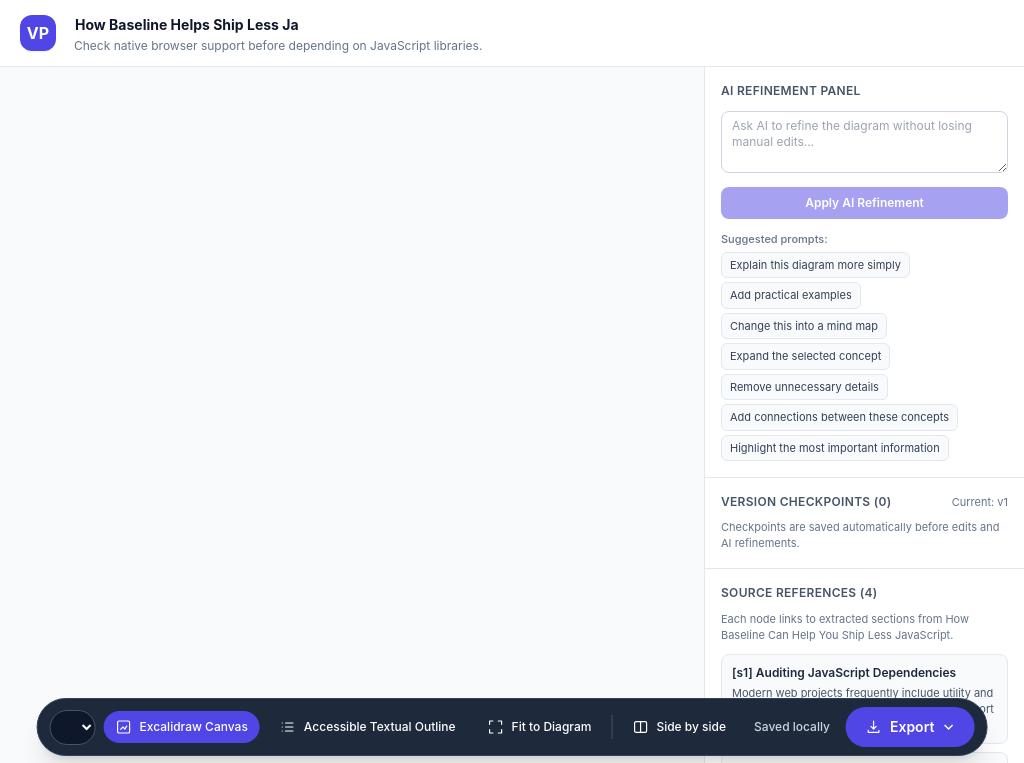
Test case: Volume 04 — Excalidraw Rendering › renders the Full-Page Editor with .excalidraw, SVG, and PNG export controls
Click the button "Export": x=910, y=727 [846,707,974,747]
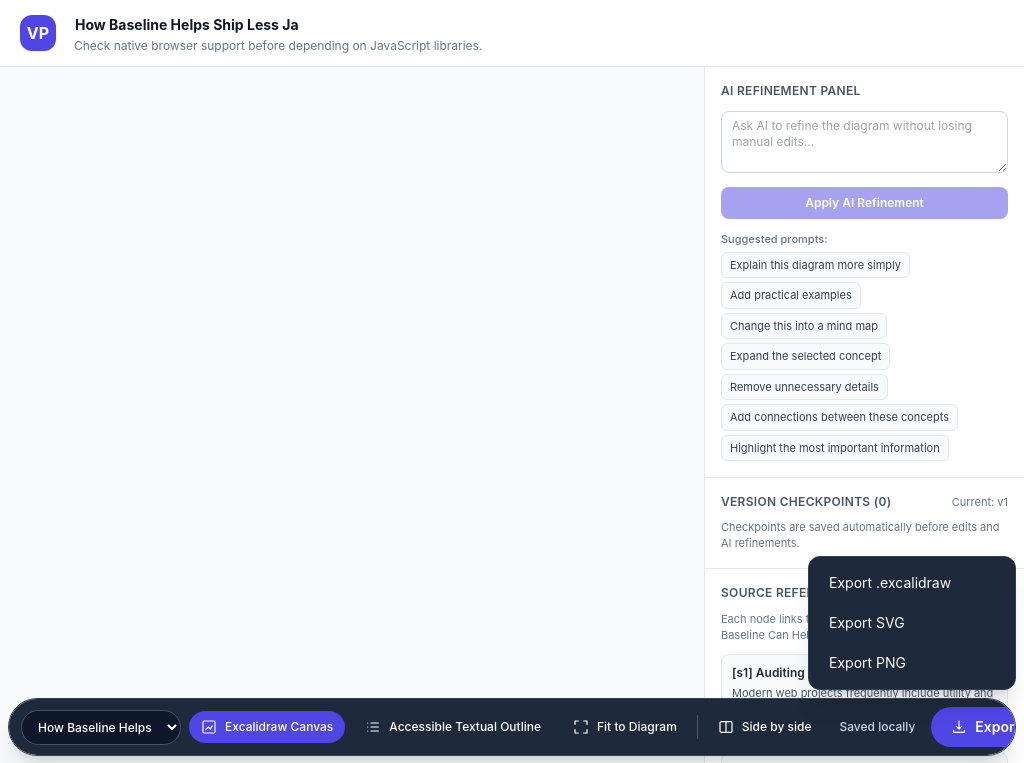
Check: the button "Export .excalidraw" is shown, box [817,565,1007,601]
Check: the button "Export SVG" is shown, box [817,605,1007,641]
Check: the button "Export PNG" is shown, box [817,645,1007,681]
